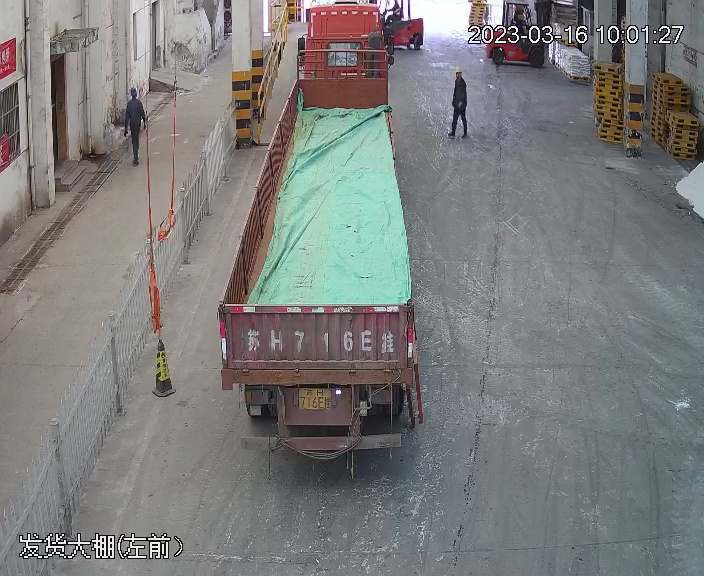head: (124, 86, 146, 110), (452, 67, 467, 88)
helmet: (453, 66, 467, 87), (454, 67, 464, 75)
people: (121, 85, 147, 168), (447, 66, 470, 139)
truck: (215, 1, 424, 450)
